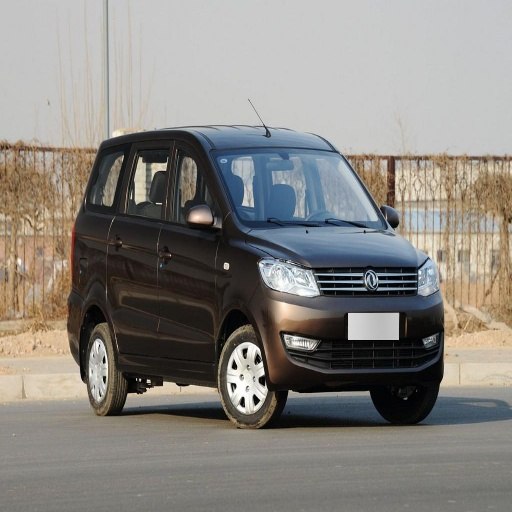front_bumper: (254, 265, 443, 390)
front_right_door: (157, 136, 221, 357)
front_right_light: (258, 254, 319, 297)
hood: (251, 227, 426, 270)
trunk: (81, 212, 111, 305)
